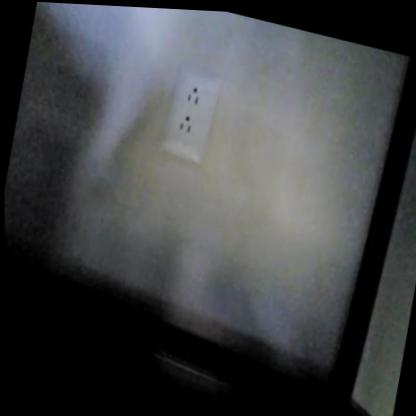OUTLET: (152, 57, 224, 168)
